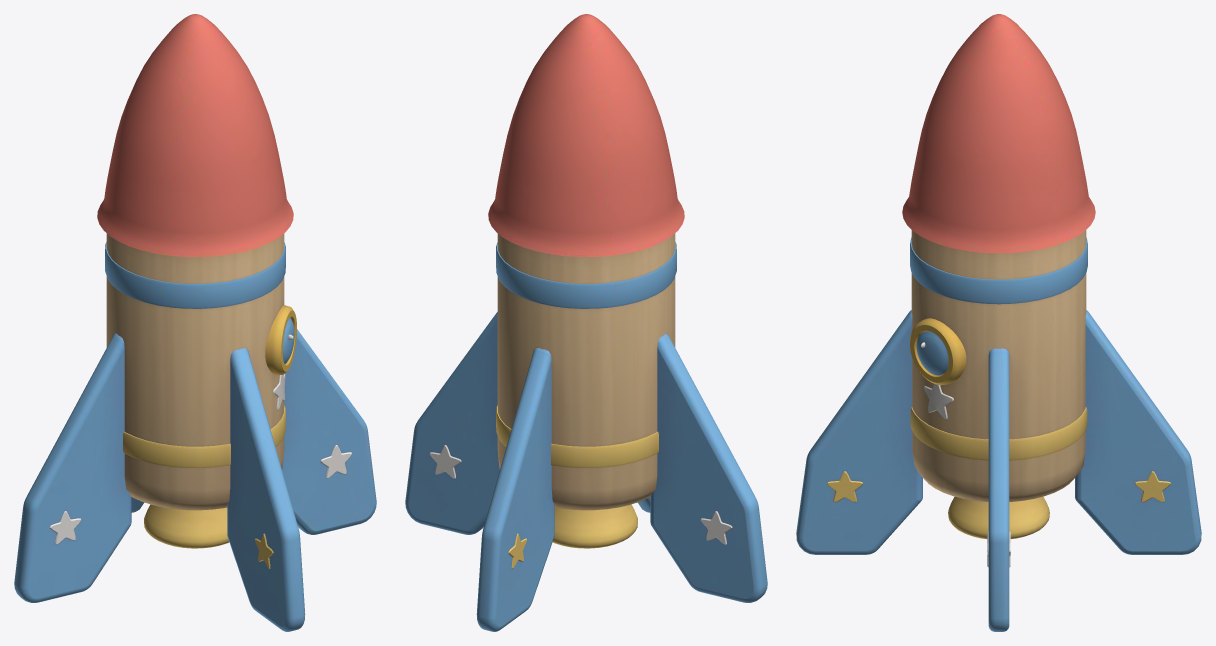
Rendered from cohete.glb.
3 renders of one model, left to right at view 1: azimuth 30°, elevation 25°; view 2: azimuth 150°, elevation 25°; view 3: azimuth 270°, elevation 25°, orthographic.
Visible parts, largest first — view 1: toy-rocket_body; view 2: toy-rocket_body; view 3: toy-rocket_body.
Boxes of the visible parts, left/top/right/bottom form: toy-rocket_body: left=14, top=14, right=376, bottom=631; toy-rocket_body: left=405, top=14, right=767, bottom=631; toy-rocket_body: left=796, top=14, right=1201, bottom=631.
Size of the model in its own units: 0.2132 by 0.312 by 0.2132.
1 material, 1 textured.
